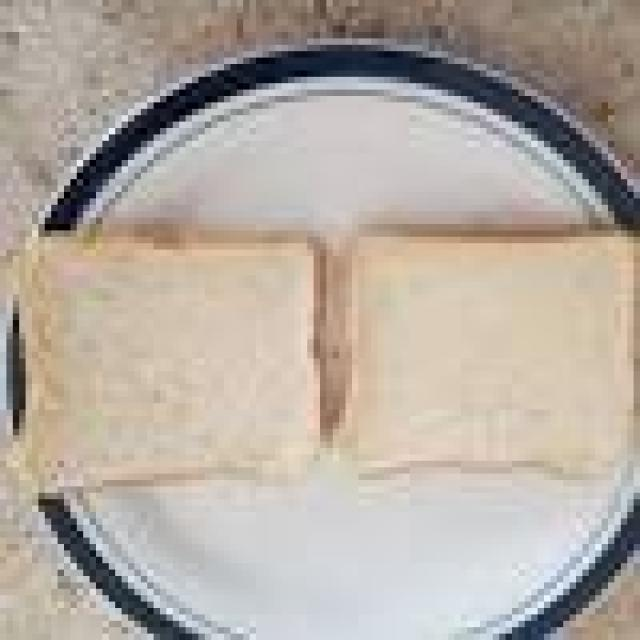Bread: (42, 235, 314, 478), (354, 236, 631, 471)
